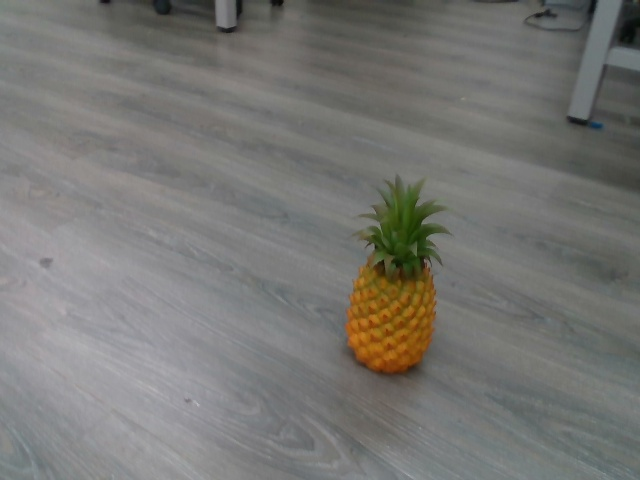pineapple: (344, 172, 451, 380)
